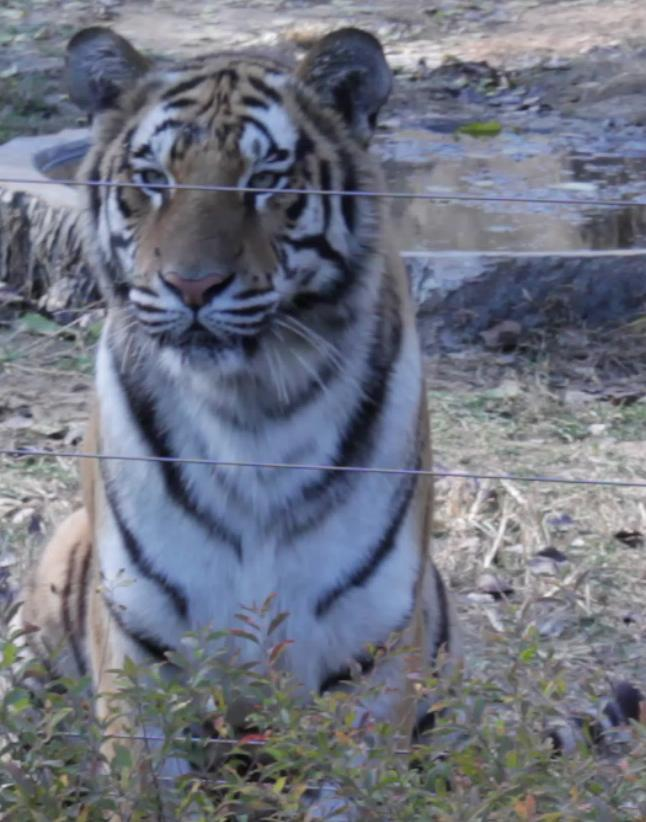tiger: (26, 27, 455, 717)
